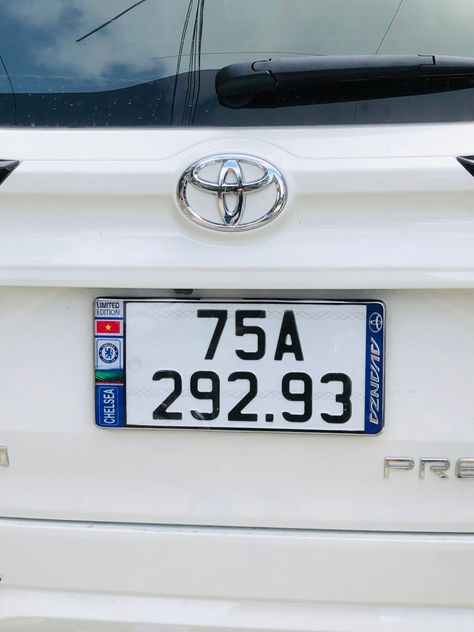number-plate: (125, 301, 363, 436)
